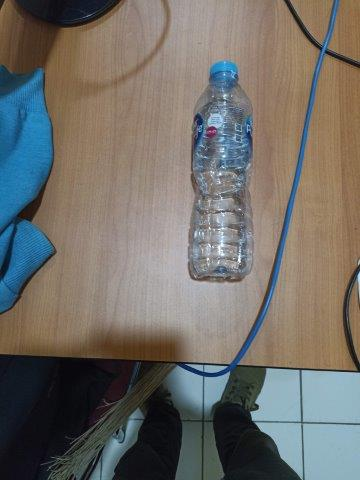botolplastik: (189, 60, 252, 278)
